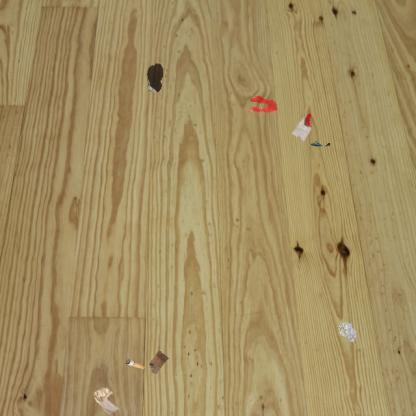dirty: (92, 386, 121, 416), (290, 112, 314, 144), (147, 348, 171, 377), (337, 322, 357, 342), (124, 358, 145, 369), (310, 139, 330, 148)
liquid: (246, 94, 278, 115), (146, 62, 164, 93)
